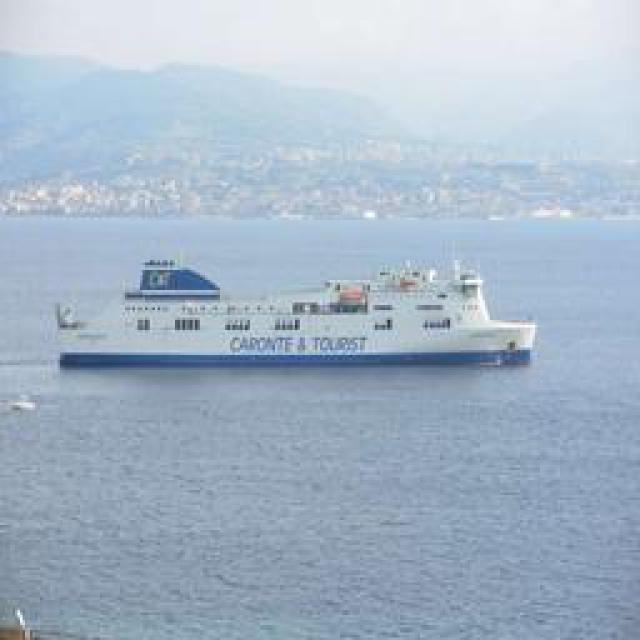Ship: (54, 257, 534, 370)
